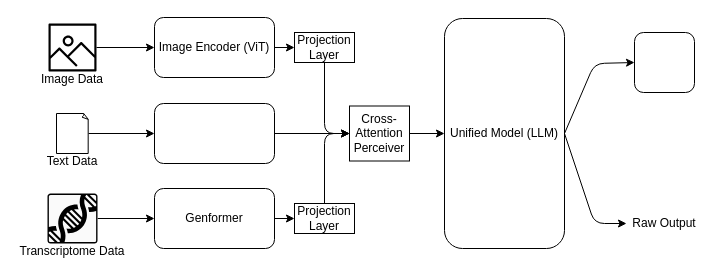
Some shapes in this 719 by 276 pixel diagram are drawn without their labels. The shapes that lost their labels are listed below. From the top down, each one's centre as x and y in pixels, then its label:
At (x=664, y=62): "Agent".
At (x=214, y=133): "Text Encoder (LLM)".
